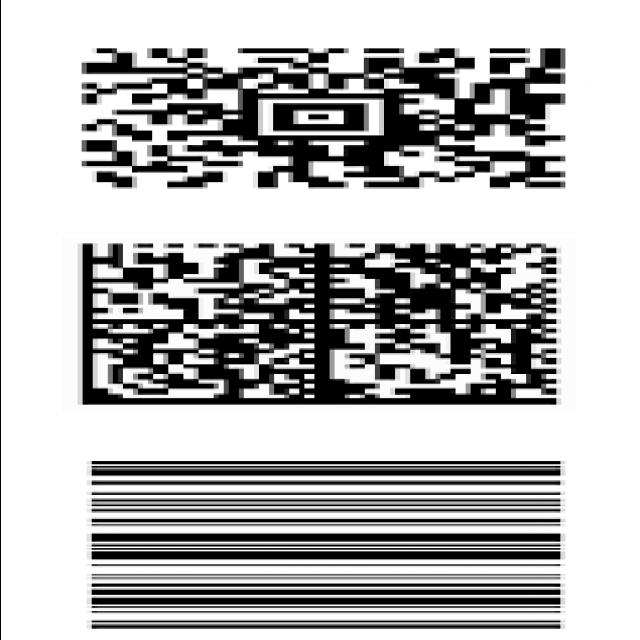DataMatrix: (61, 237, 574, 411)
